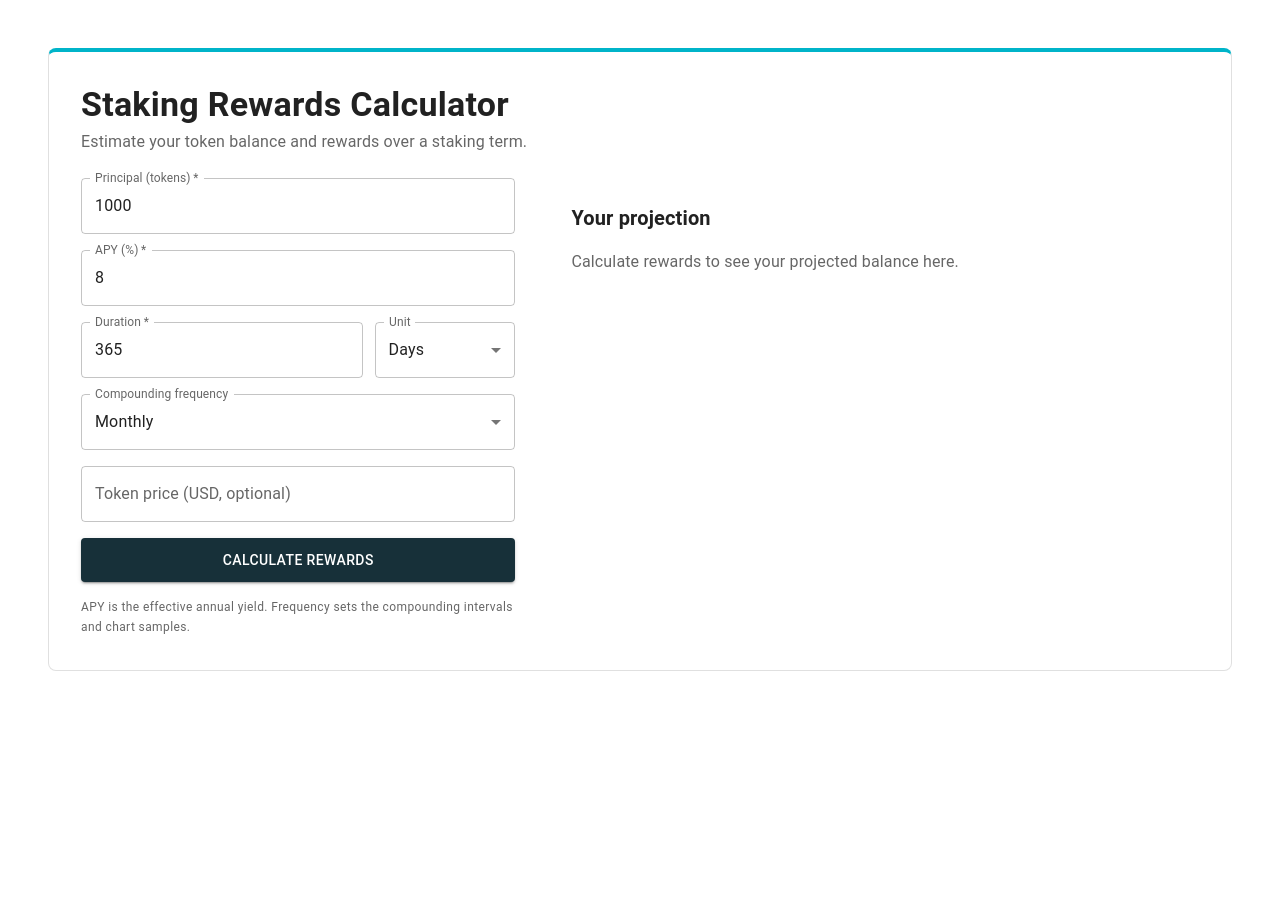
shows field validation and sends valid values to the API
The image size is (1280, 900).
Replace the text in the number field labelled "Principal (tokens) *" with "0" at (298, 206), box left=81, top=178, right=515, bottom=234
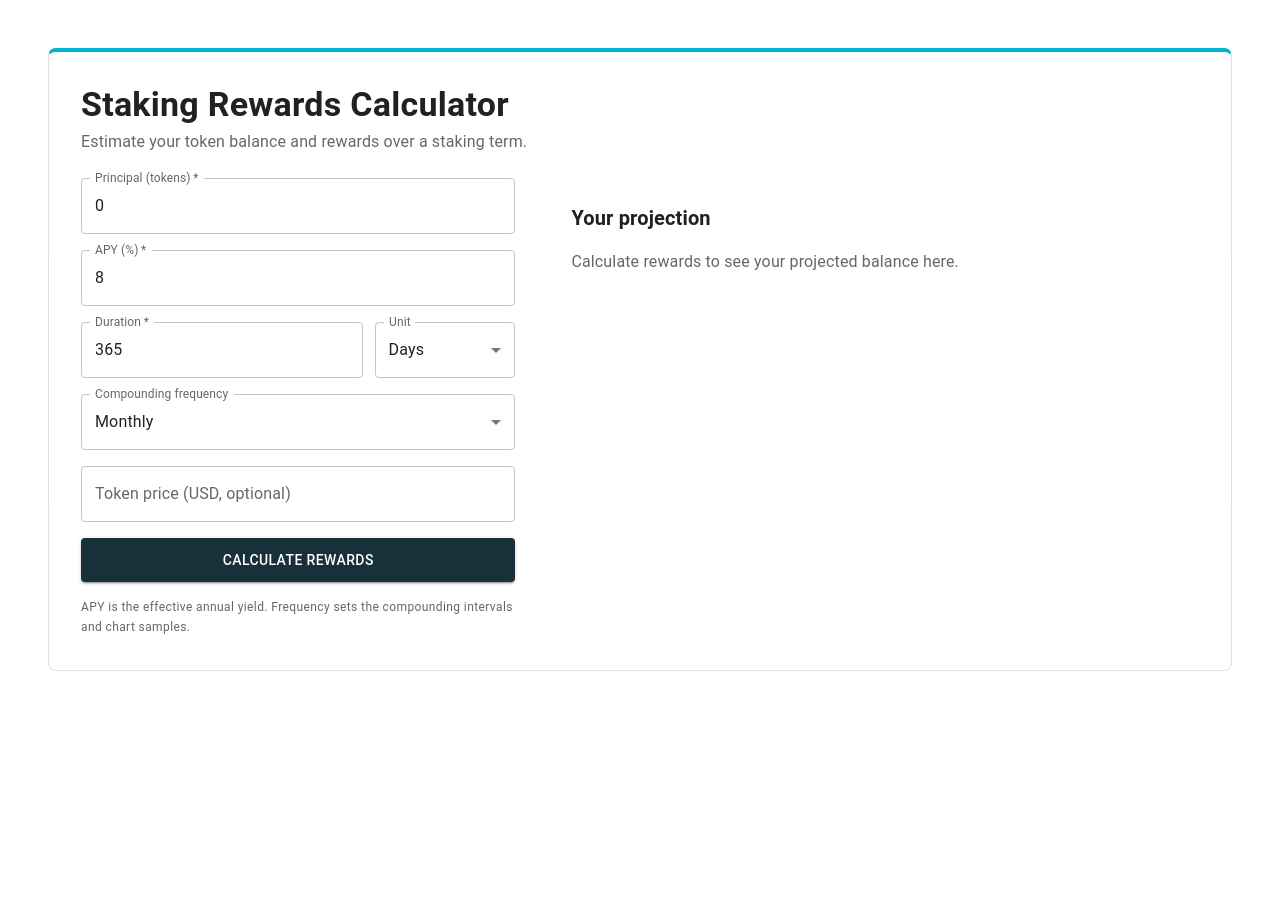
Click the button "Calculate rewards" at (298, 560), box left=81, top=538, right=515, bottom=582
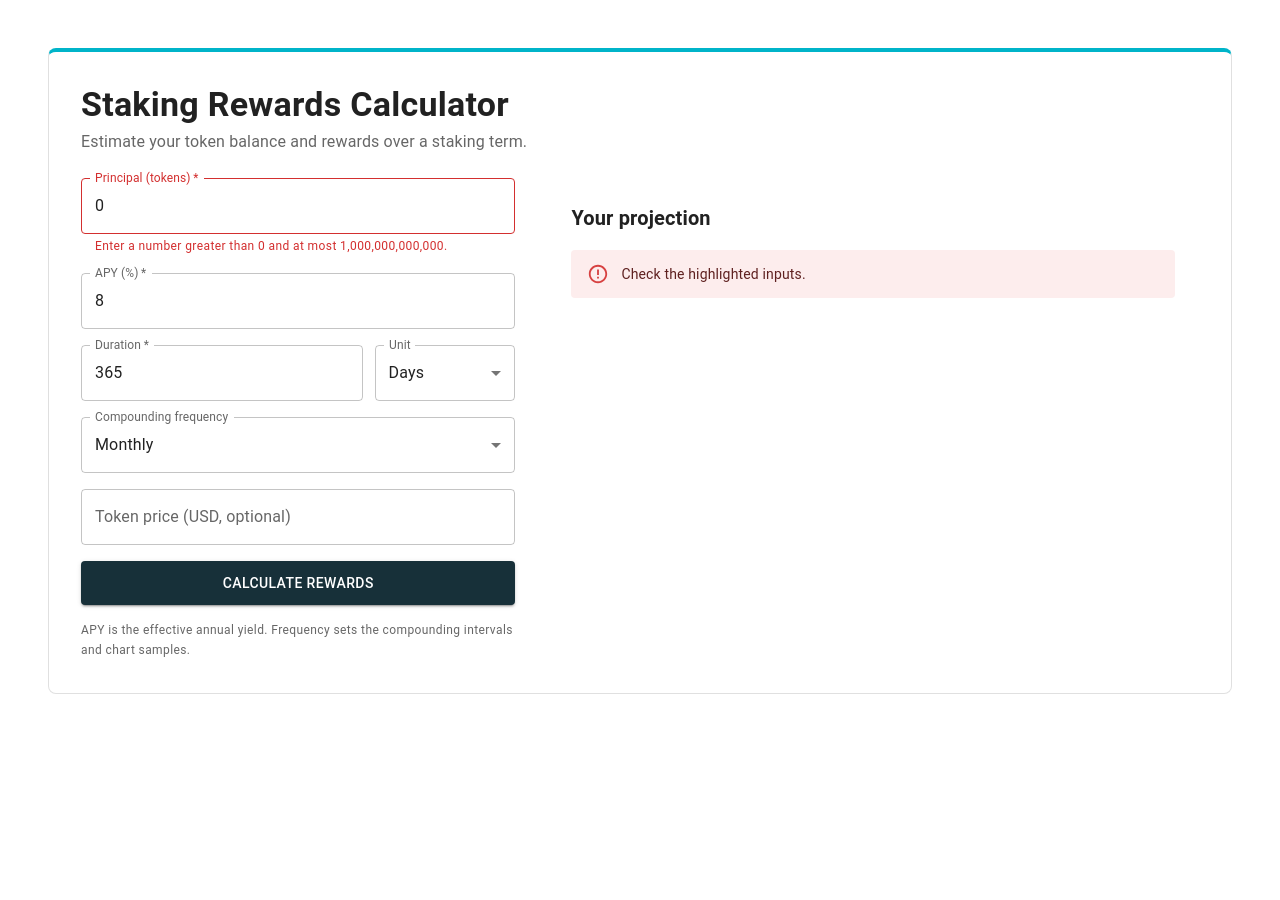
Expected: the message reads "Check the highlighted inputs.", left=621, top=266, right=806, bottom=282
Replace the text in the number field labelled "Principal (tokens) *" with "1000" at (298, 206), box left=81, top=178, right=515, bottom=234
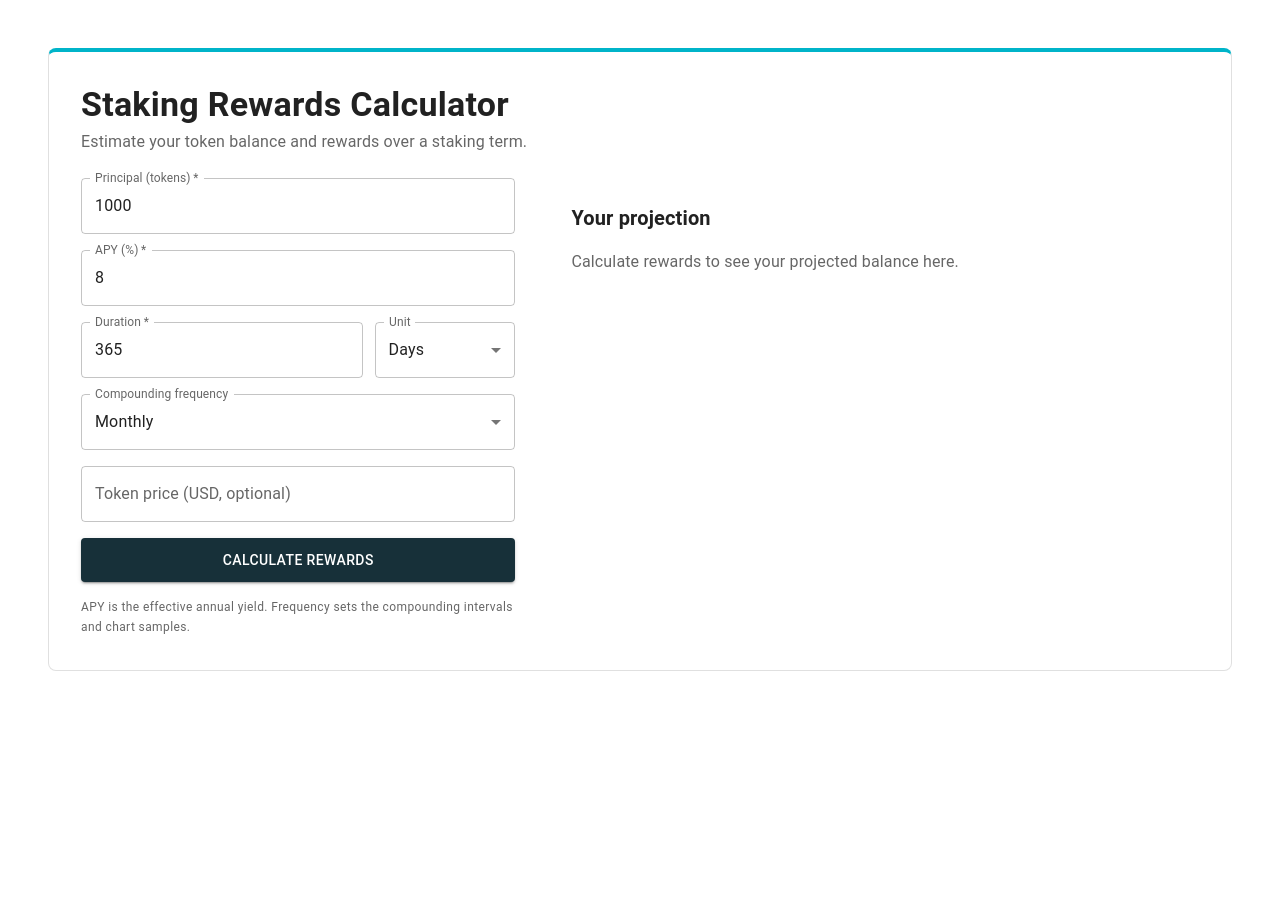
Click the button "Calculate rewards" at (298, 560), box left=81, top=538, right=515, bottom=582
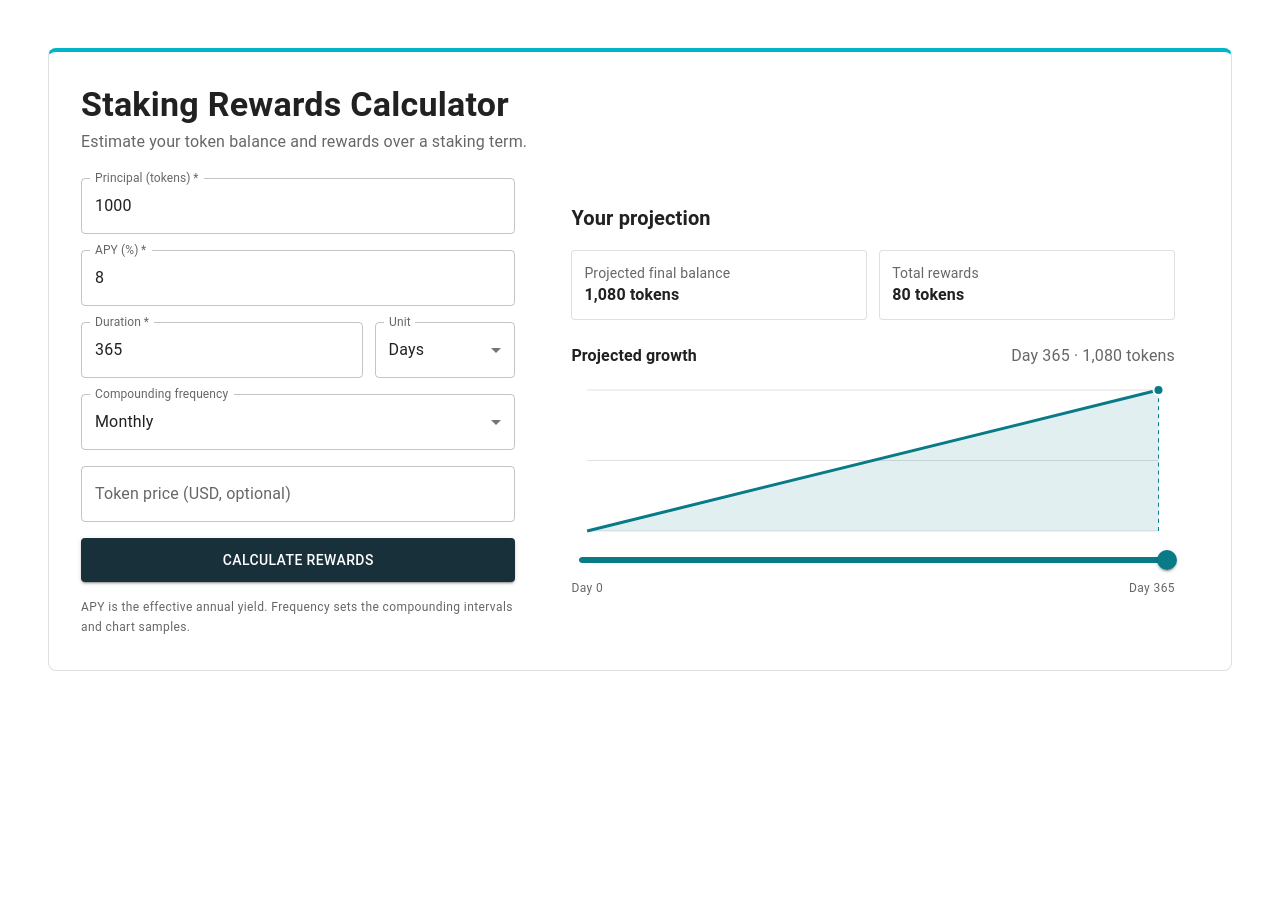
Expected: the text "Projected final balance" is shown, left=584, top=265, right=730, bottom=281
Expected: the slider is shown, left=1157, top=550, right=1177, bottom=570
